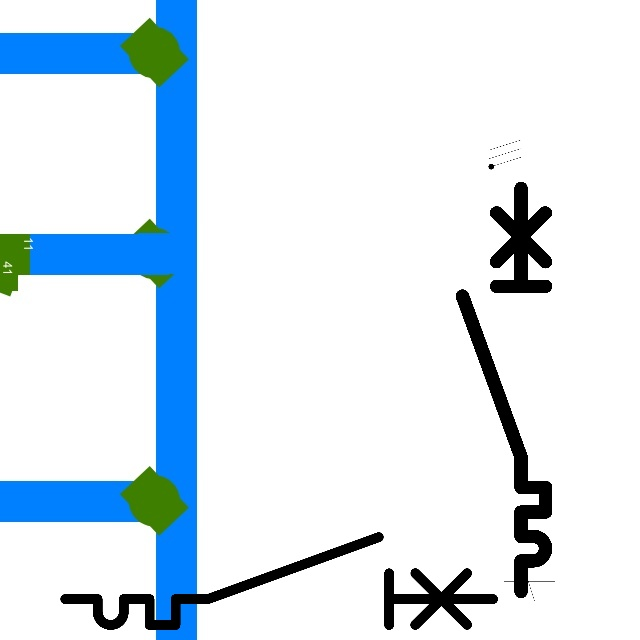interruptor_termomagnetico: (54, 526, 504, 636), (452, 177, 556, 601)
